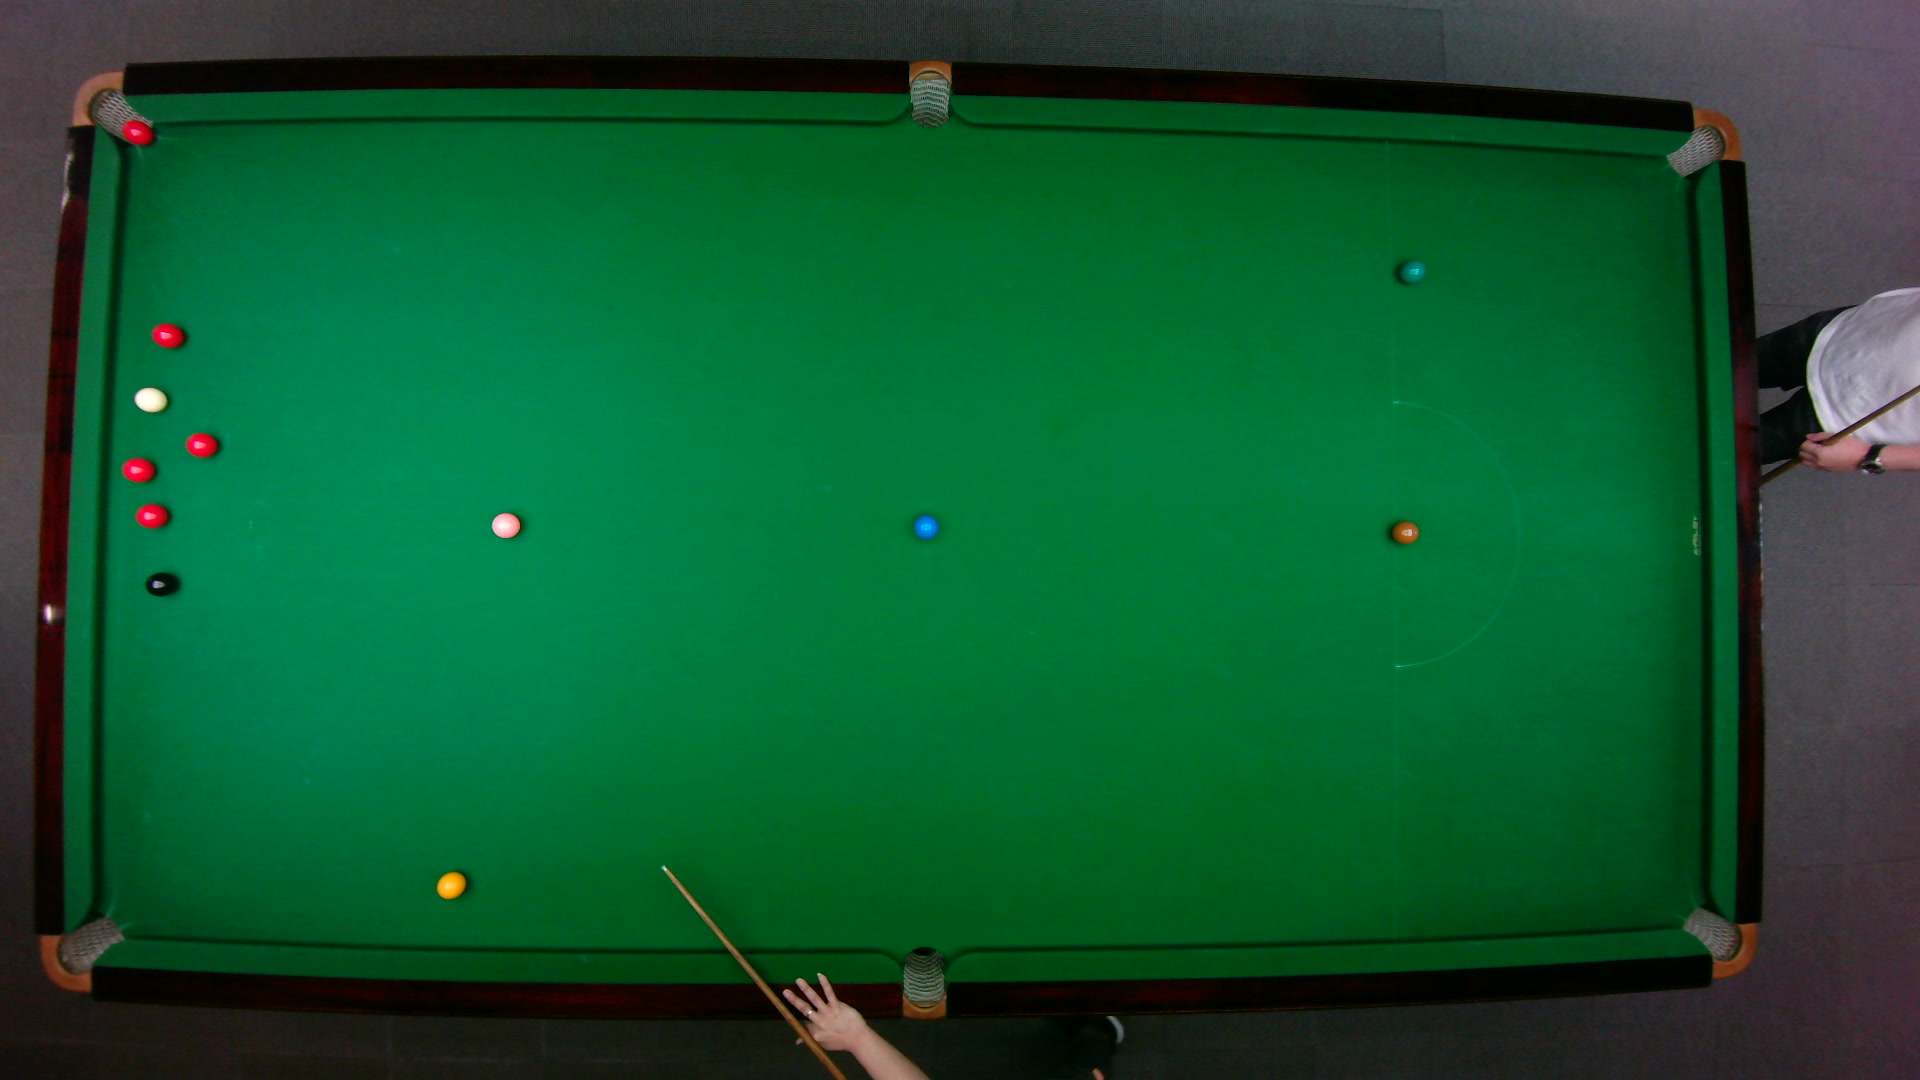bag: (69, 69, 156, 146), (38, 914, 125, 992), (1677, 905, 1756, 978), (1663, 107, 1741, 177), (901, 944, 945, 1021), (909, 57, 949, 128)
black: (142, 571, 175, 596)
blue: (911, 512, 939, 539)
brown: (1390, 520, 1419, 545)
cue: (659, 864, 845, 1079)
green: (1396, 258, 1425, 284)
pink: (489, 509, 521, 539)
red: (149, 320, 185, 349), (120, 116, 154, 145), (120, 455, 156, 483), (185, 431, 218, 458), (135, 502, 167, 527)
white: (131, 384, 167, 411)
yellow: (435, 869, 465, 899)
zone: (1390, 400, 1520, 669)
